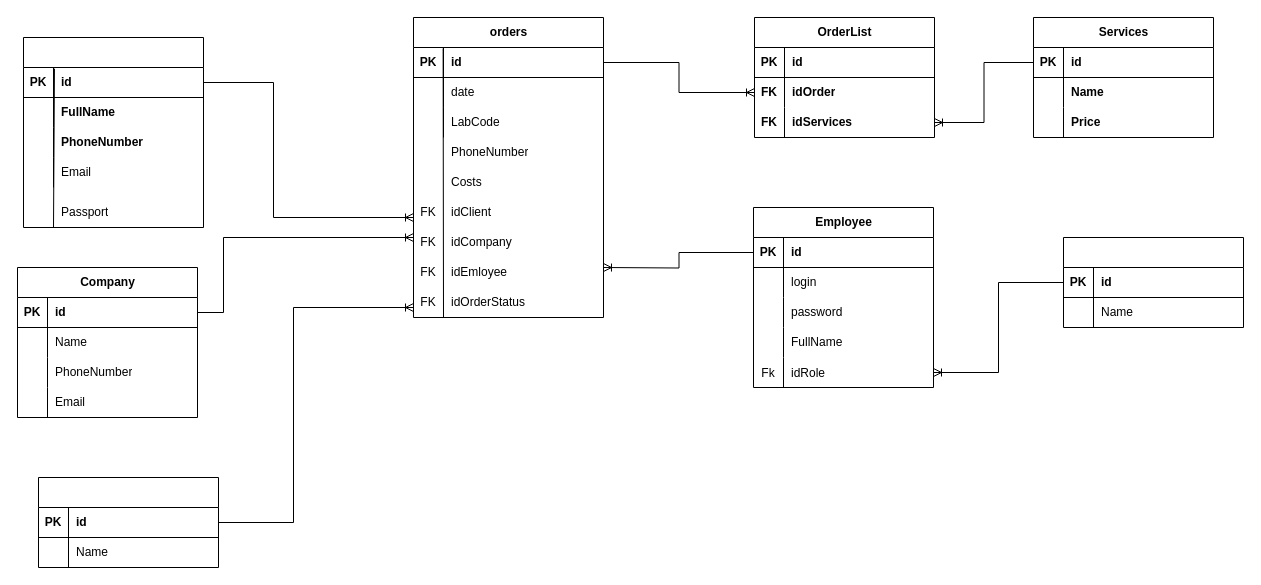
Some shapes in this 1261 by 585 pixel diagram are drawn without their labels. Each missing label, with the box of its shape:
Client: (22, 36, 204, 228)
OrderStatus: (38, 476, 218, 568)
Role: (1062, 236, 1244, 328)
